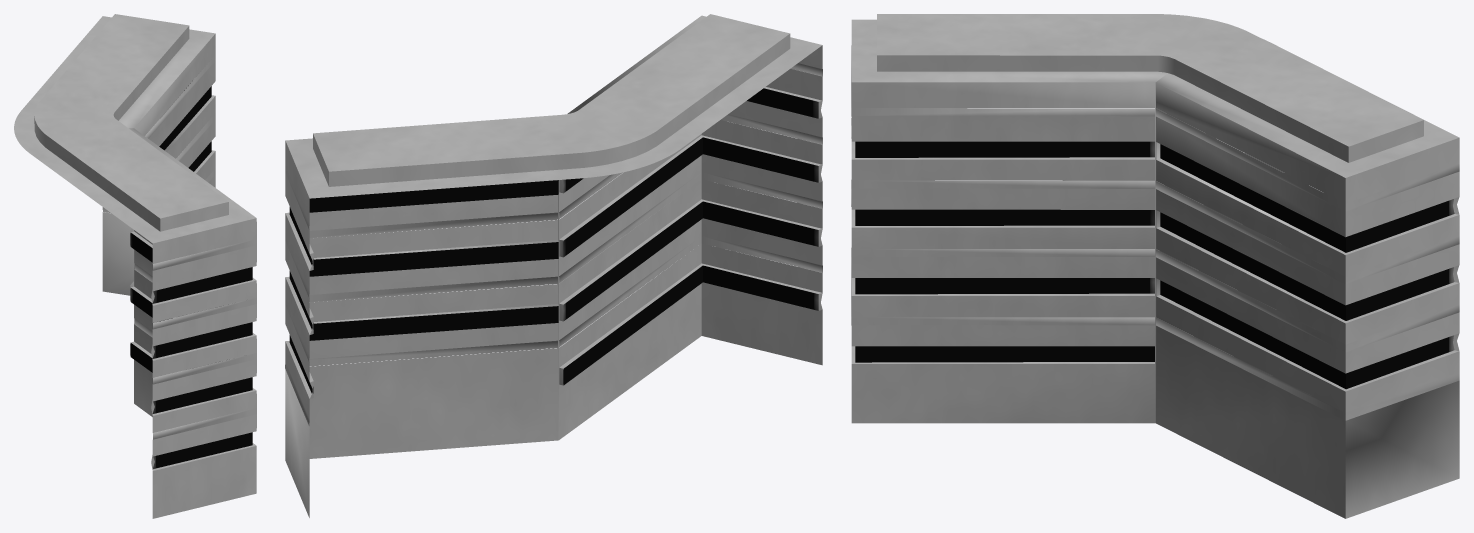
Rendered from tower_wing_unfucked.fbx.
3 views of the same model, side by side, from view 1: azimuth 30°, elevation 25°; view 2: azimuth 150°, elevation 25°; view 3: azimuth 270°, elevation 25° (orthographic). The views are drawn at different scales.
Visible parts, largest first — view 1: tower.001; view 2: tower.001; view 3: tower.001.
Boxes of the visible parts, <box> form: tower.001: <box>14,14,256,518</box>; tower.001: <box>285,14,822,517</box>; tower.001: <box>851,14,1459,518</box>.
Size of the model in its own units: 5102 by 5354 by 8269.
1 material, 1 textured.
